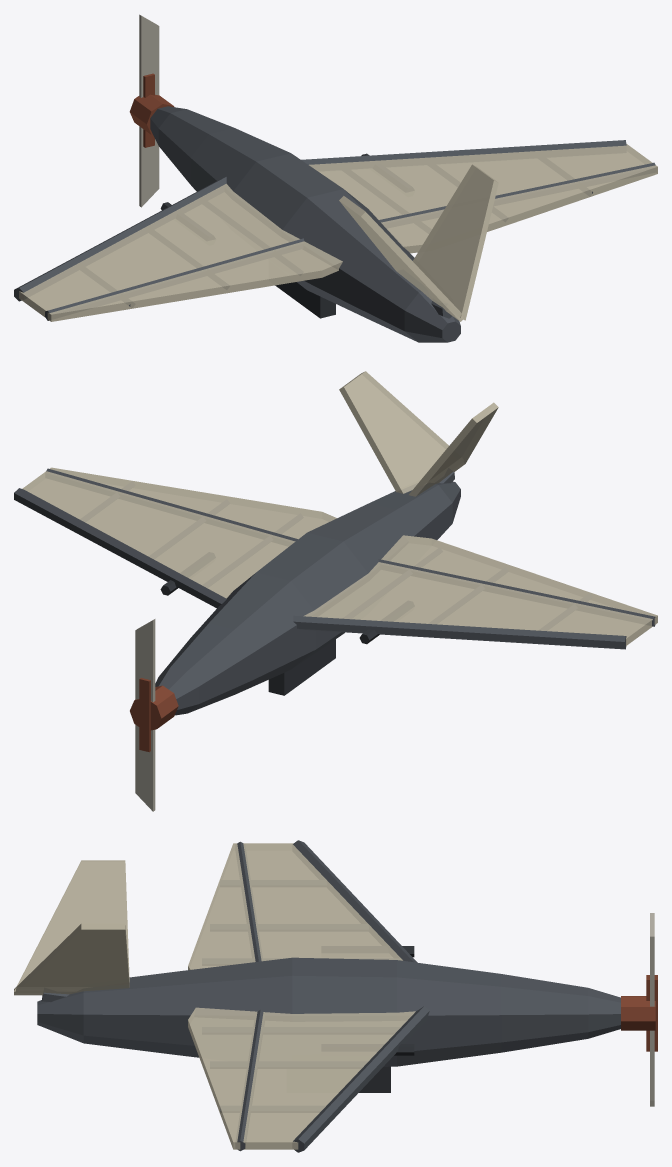
The model's file is fighter_combine.glb.
3 views of the same model, one above another, from view 1: azimuth 30°, elevation 25°; view 2: azimuth 150°, elevation 25°; view 3: azimuth 270°, elevation 25° (orthographic).
Parts seen in each view (by area): view 1: fighter_combine_body, fighter_combine_prop; view 2: fighter_combine_body, fighter_combine_prop; view 3: fighter_combine_body, fighter_combine_prop.
Part boxes in pixels (x1,y1,x2,y2): fighter_combine_body: (14,94,657,342); fighter_combine_prop: (139,14,159,207); fighter_combine_body: (14,371,657,730); fighter_combine_prop: (135,619,155,811); fighter_combine_body: (14,840,655,1152); fighter_combine_prop: (646,913,657,1106).
Size of the model in its own units: 6.14 by 2.07 by 5.55.
